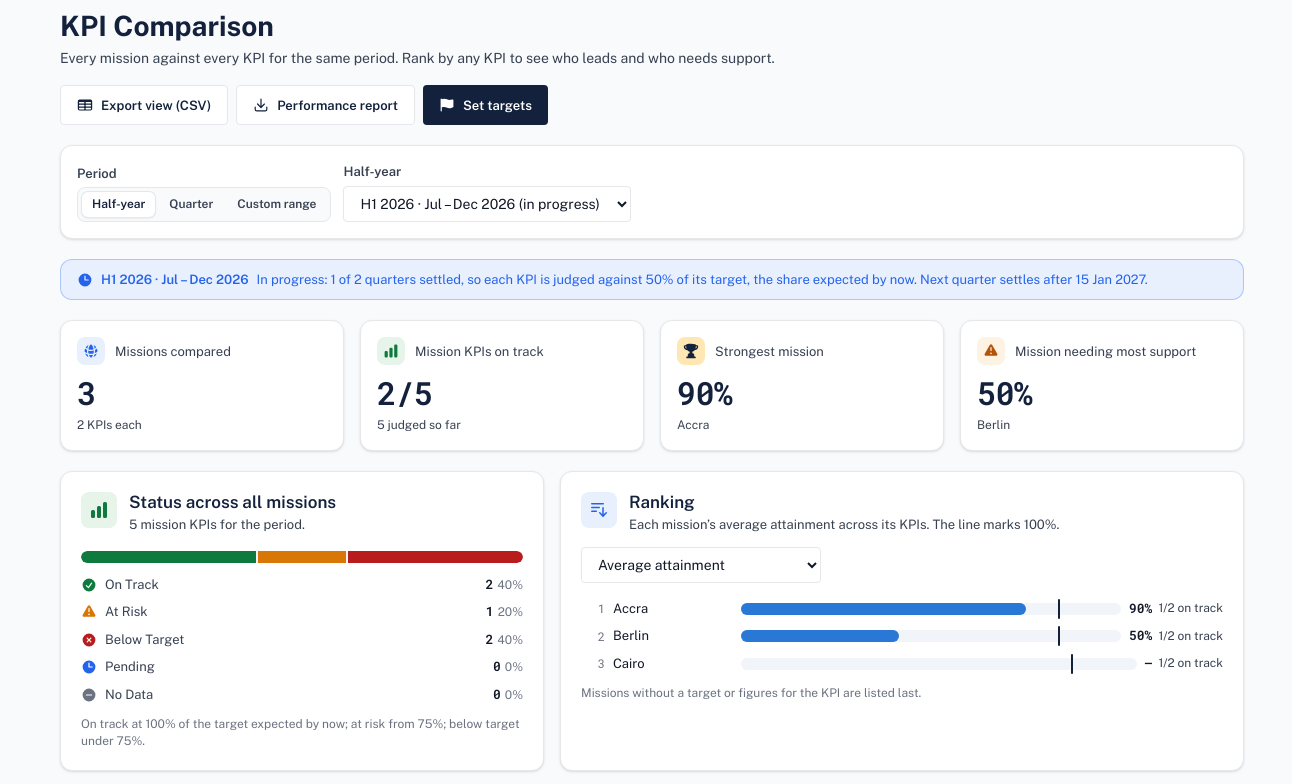
Test: KpiComparisonPage › changes the period and keeps it in the URL
Click the radio button labelled "Quarter": coordinates (191, 204) [159, 192, 223, 217]
(page scrolled)
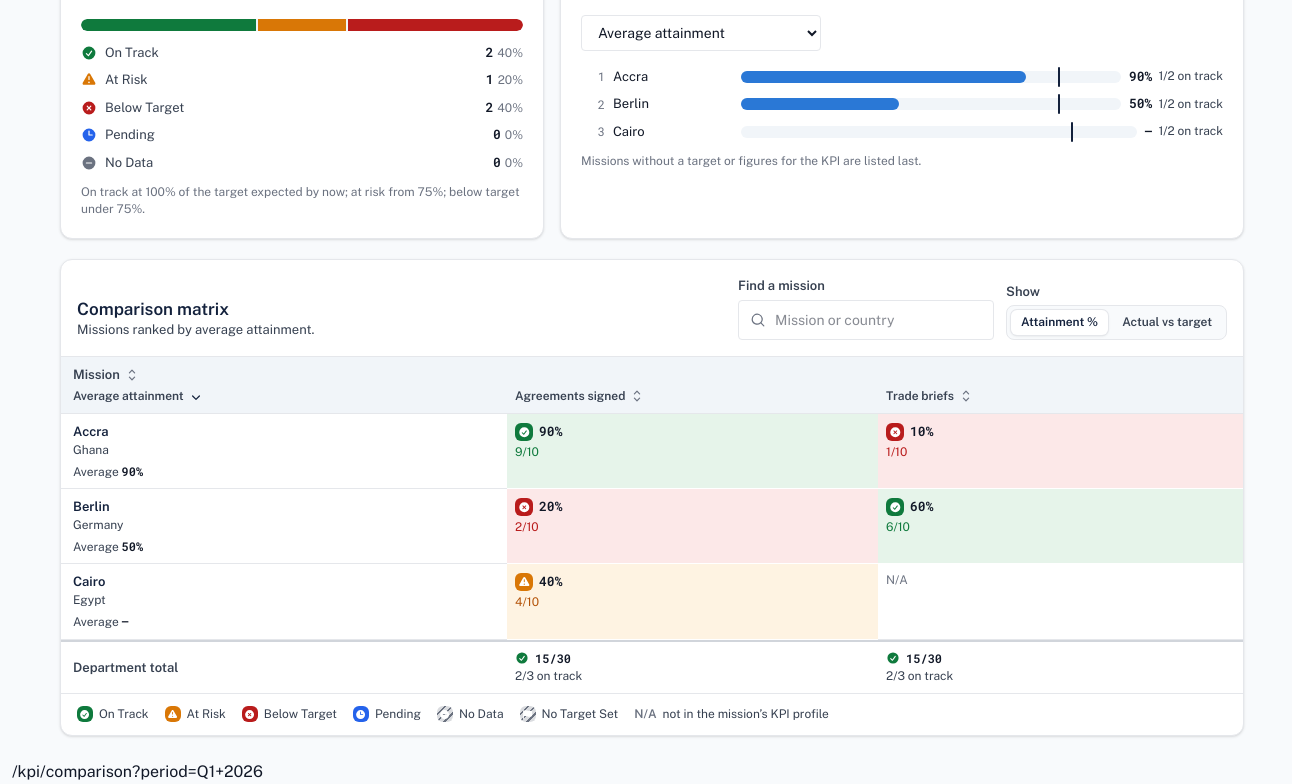
Expected: the text with test id "location" shows "period=Q1+2026", [12, 762, 263, 781]
